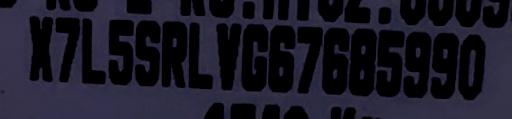letter: (264, 24, 298, 91), (212, 21, 244, 88), (430, 29, 462, 96), (402, 31, 434, 98), (374, 28, 406, 93), (185, 21, 215, 88), (294, 24, 324, 91), (132, 18, 162, 83), (348, 27, 378, 92), (321, 27, 351, 90), (160, 20, 188, 87), (242, 22, 270, 89), (459, 32, 487, 99), (52, 15, 80, 80), (26, 15, 52, 82), (106, 20, 132, 83), (82, 18, 104, 81)
